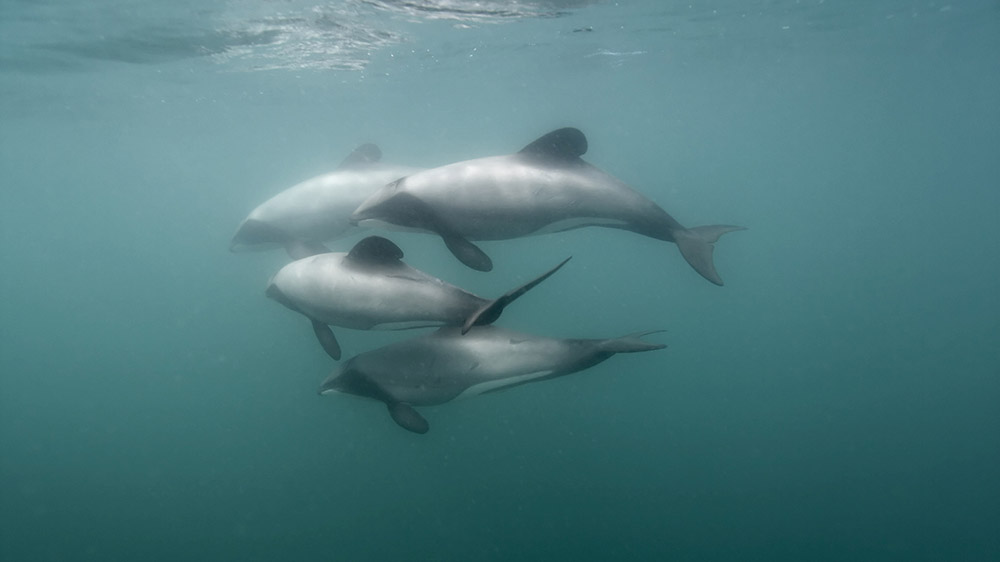dolphin: (345, 144, 758, 280), (296, 320, 687, 429), (249, 241, 592, 347)
